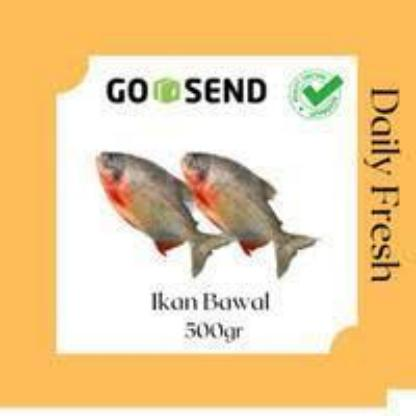ikan-pacu: (94, 149, 216, 263), (181, 150, 303, 254)
